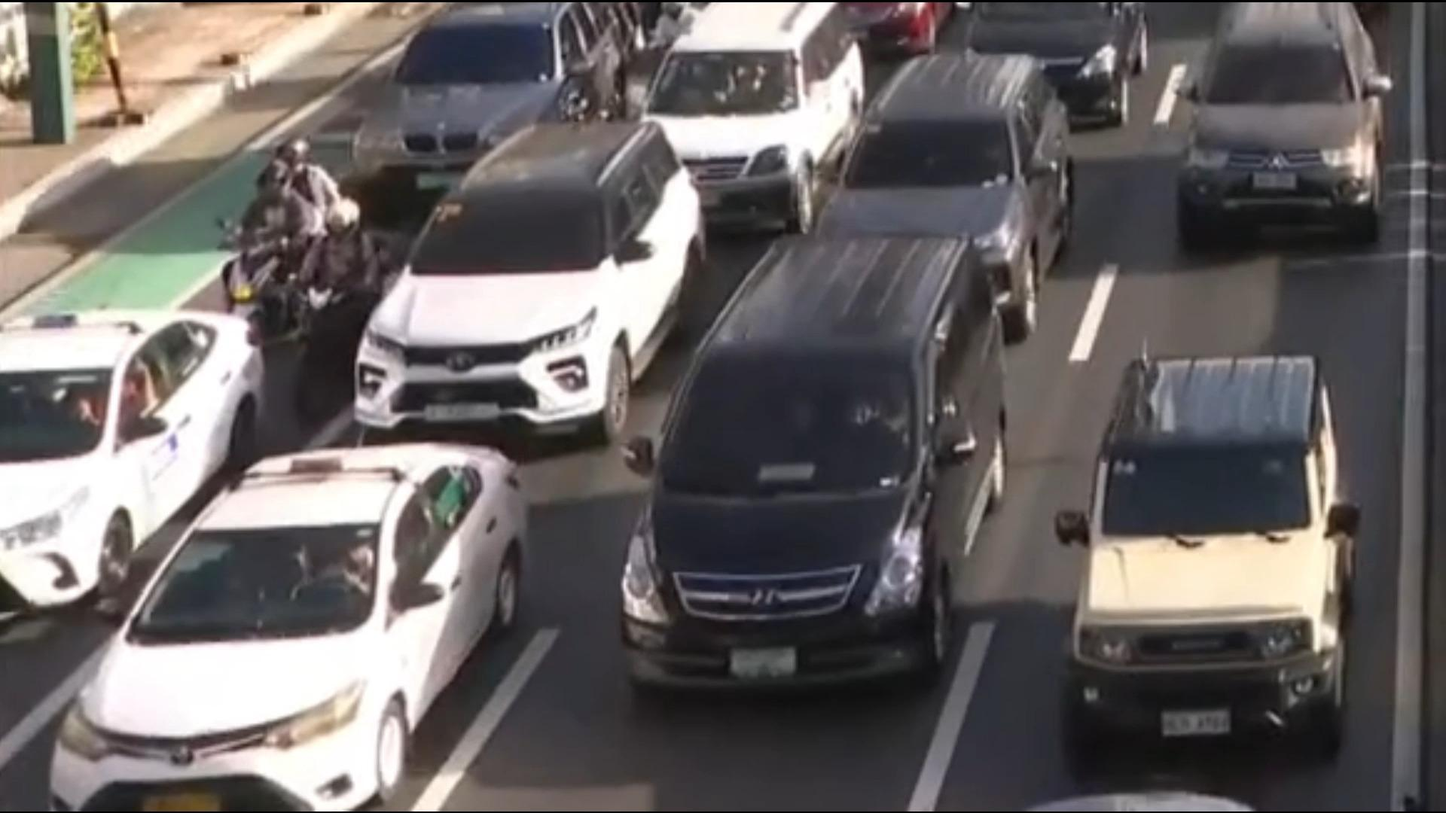Motorcycle: (204, 128, 375, 368)
SUV: (1052, 319, 1386, 747), (348, 103, 711, 448), (768, 53, 1085, 296), (1146, 0, 1406, 270), (332, 0, 608, 190), (949, 0, 1135, 137)
Sedan: (0, 420, 575, 813), (0, 287, 289, 619)
Van: (579, 222, 1017, 725), (636, 3, 864, 232)
